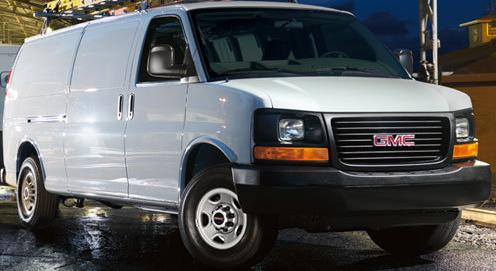front_view: (248, 91, 491, 225)
headlight: (243, 105, 340, 176)
side_glass: (68, 15, 211, 88)
